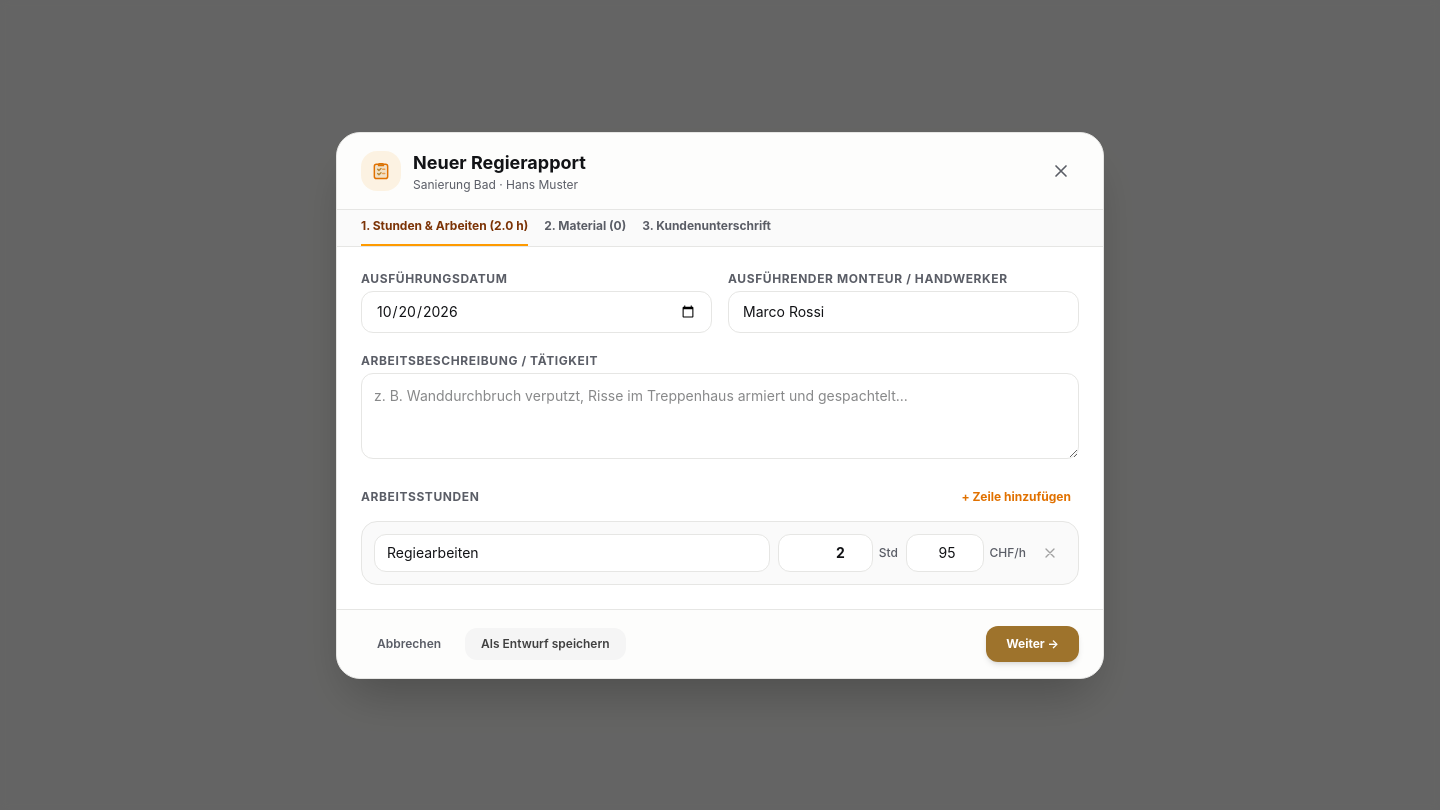
Test case: RapportCreateModal › disables complete button in step 3 before signing
Click the button "Weiter →".
click(1033, 644)  # box x1=986 y1=626 x2=1079 y2=662
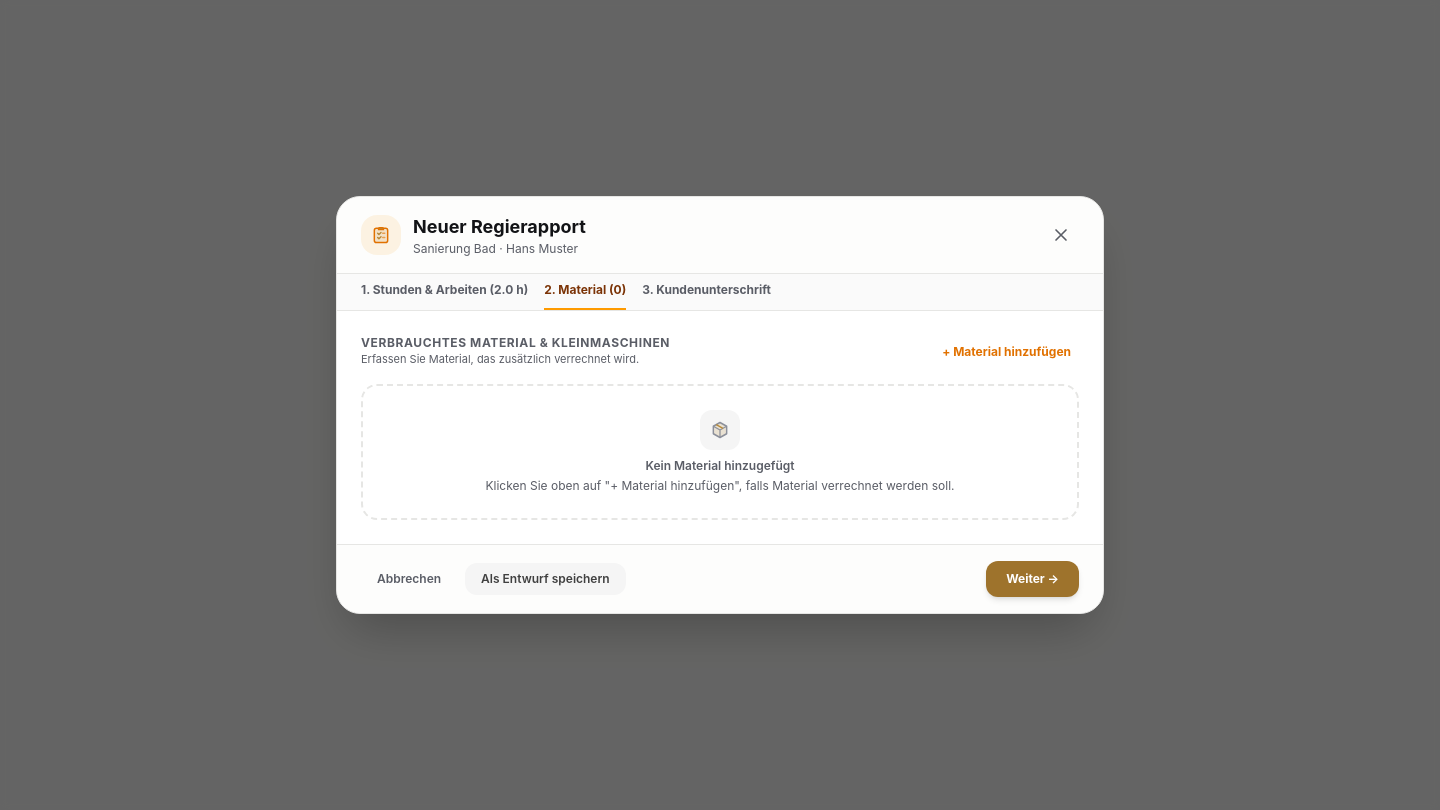
Click the button "Weiter →".
click(1033, 579)  # box x1=986 y1=561 x2=1079 y2=597
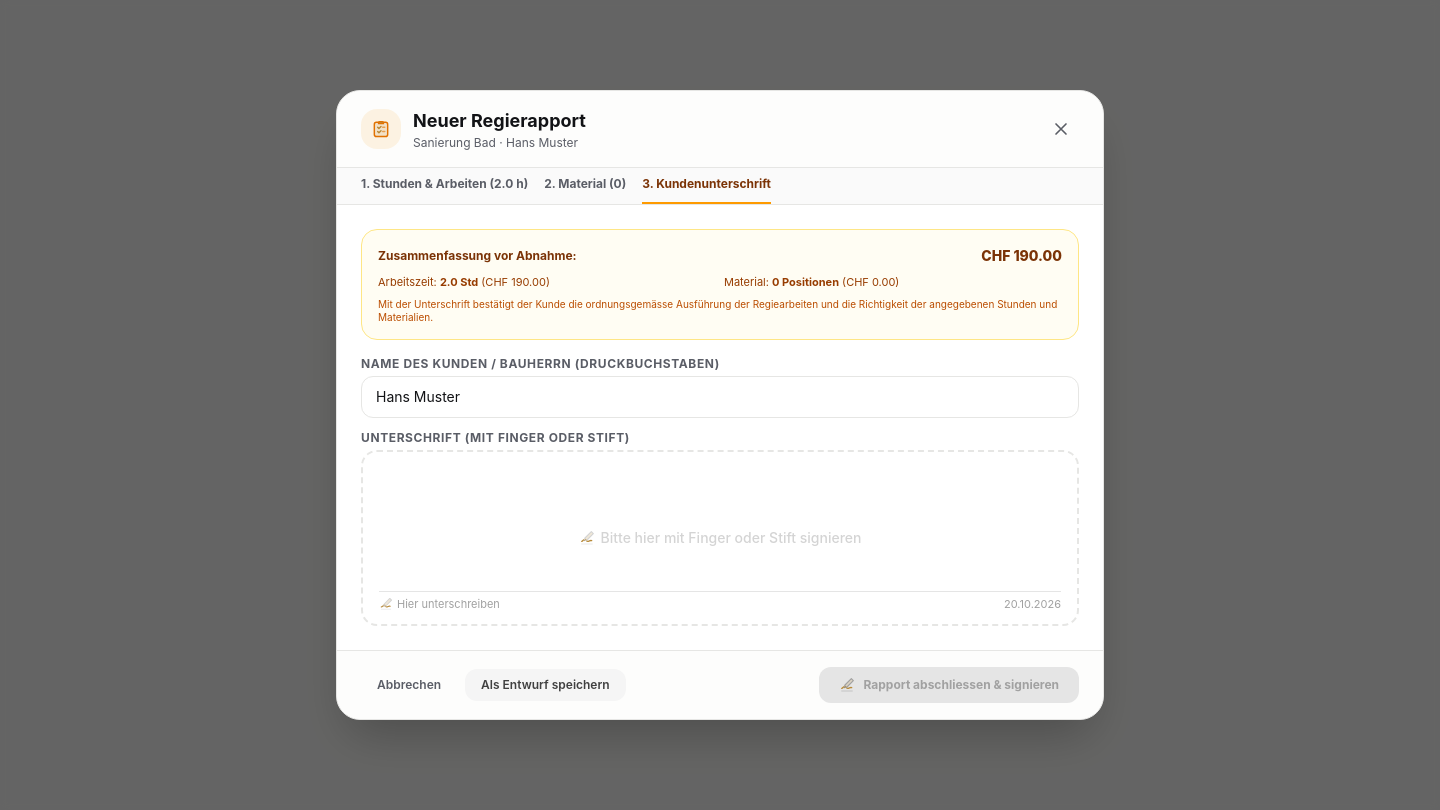
Expected: the text "3. Kundenunterschrift" is shown, x1=642 y1=176 x2=771 y2=192
Expected: the button "Weiter →" is disabled, x1=820 y1=667 x2=1079 y2=703
